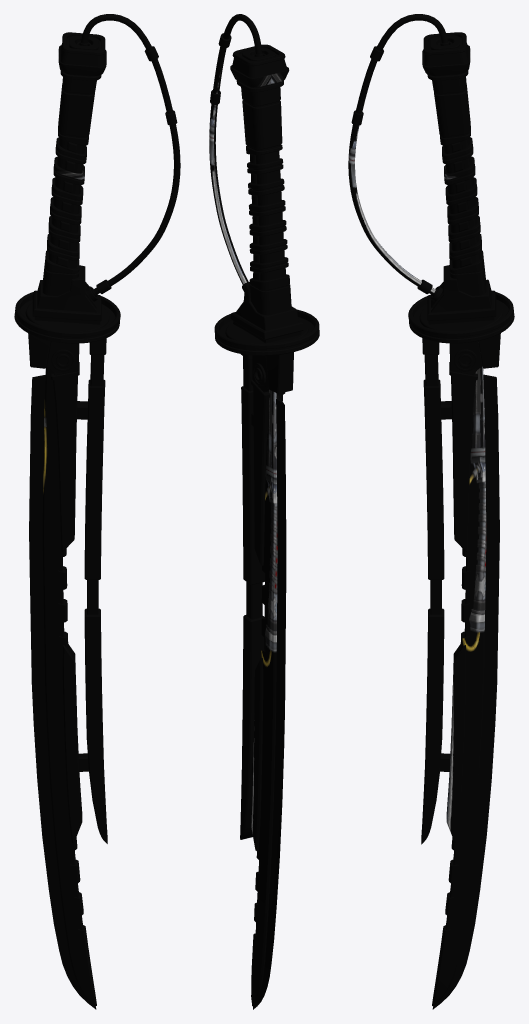
Rendered from katana.fbx.
3 views of the same model, side by side, from view 1: azimuth 90°, elevation 25°; view 2: azimuth 210°, elevation 25°; view 3: azimuth 270°, elevation 25° (orthographic).
Visible parts, largest first — view 1: Cylinder.007__0; view 2: Cylinder.007__0; view 3: Cylinder.007__0.
Boxes of the visible parts, <box> form: Cylinder.007__0: <box>14,14,180,1009</box>; Cylinder.007__0: <box>209,14,319,1009</box>; Cylinder.007__0: <box>348,14,514,1009</box>.
Size of the model in its own units: 18.27 by 190 by 28.69.
